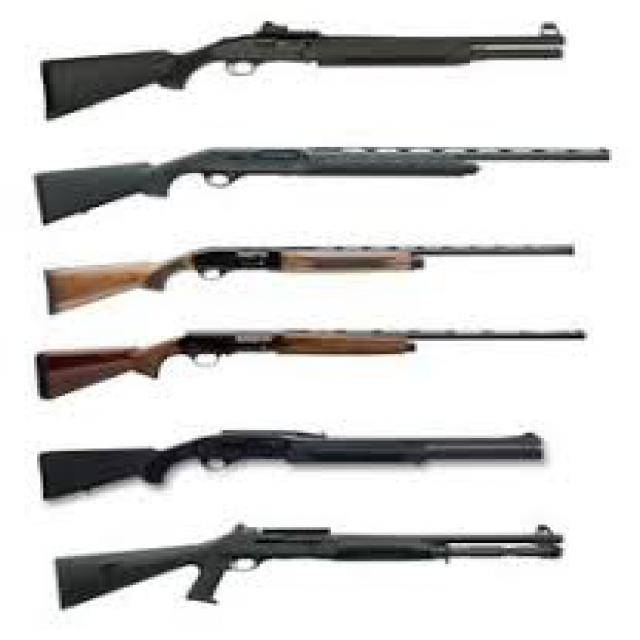long weapon: (15, 408, 584, 533), (22, 8, 597, 129), (22, 121, 603, 236), (22, 226, 602, 333), (43, 521, 595, 627), (10, 317, 604, 414)
